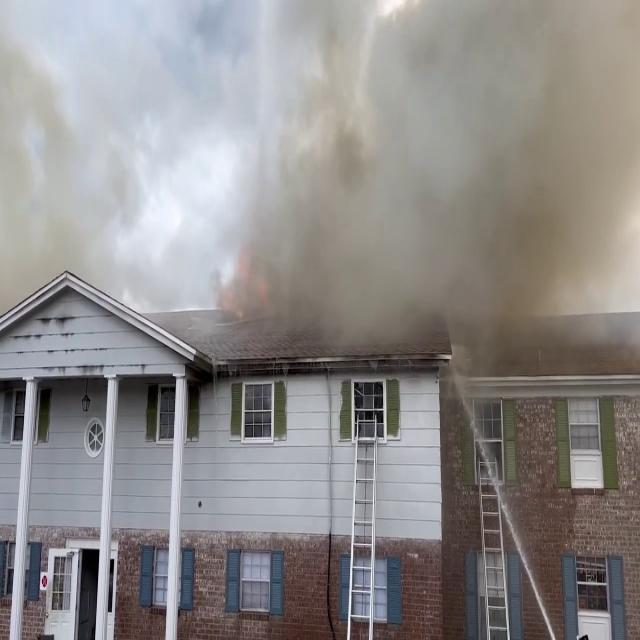Smoke: (214, 0, 640, 347), (0, 4, 184, 312)
